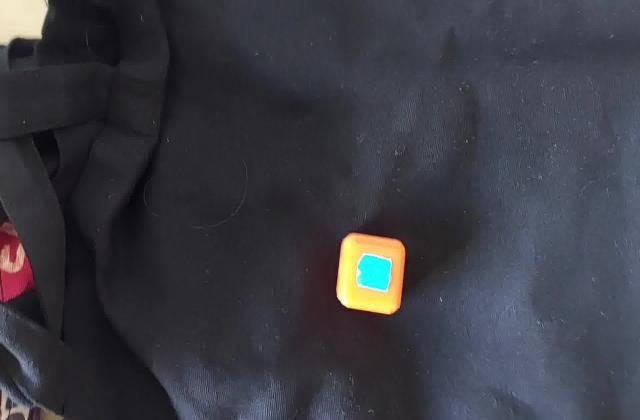blue: (362, 258, 388, 286)
sticker: (333, 229, 408, 318)
